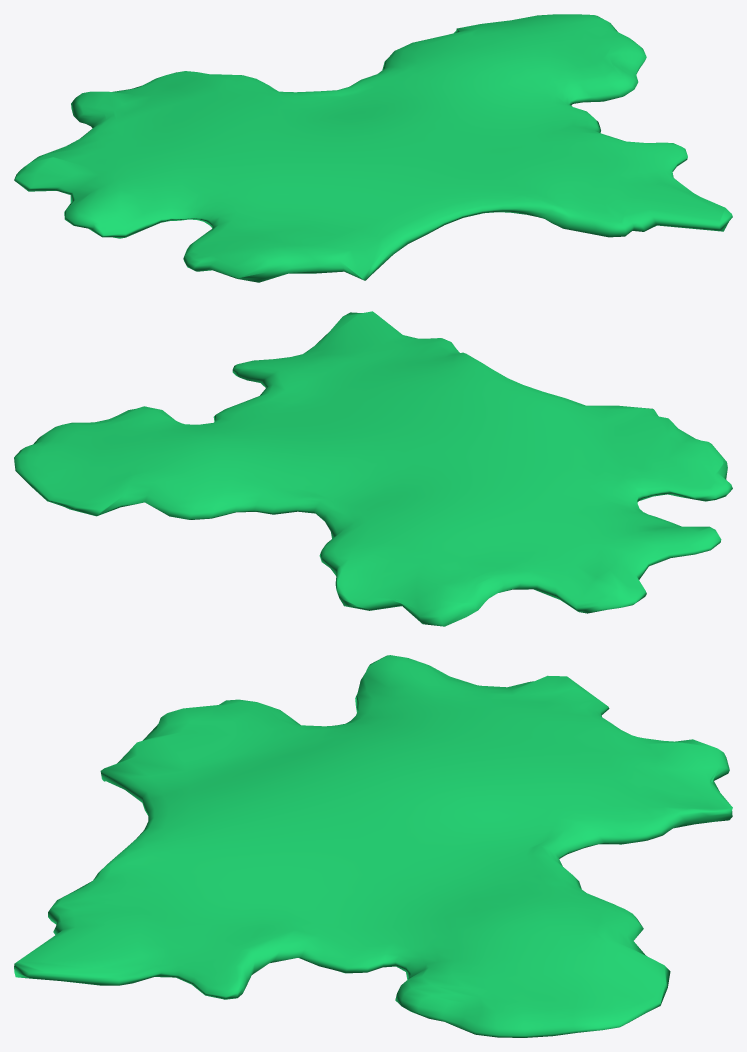
The model's file is spilled-goo.fbx.
3 renders of one model, top to bottom at view 1: azimuth 30°, elevation 25°; view 2: azimuth 150°, elevation 25°; view 3: azimuth 270°, elevation 25°, orthographic. The views are drawn at different scales.
Visible parts, largest first — view 1: slime1; view 2: slime1; view 3: slime1.
Part boxes in pixels (box(x1,y1,x2,y2)): slime1: box(14, 14, 732, 282); slime1: box(14, 311, 732, 626); slime1: box(14, 655, 732, 1037).
Size of the model in its own units: 11.8 by 0.6969 by 9.78.
